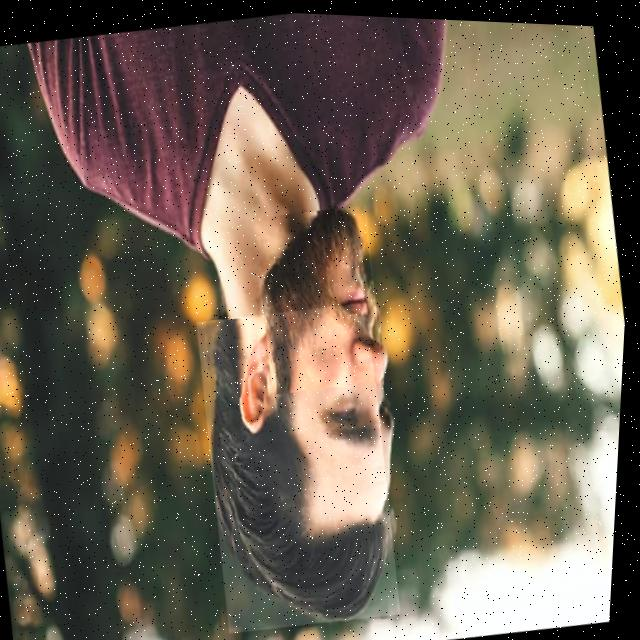beard: (266, 205, 380, 391)
hair: (218, 316, 398, 617)
